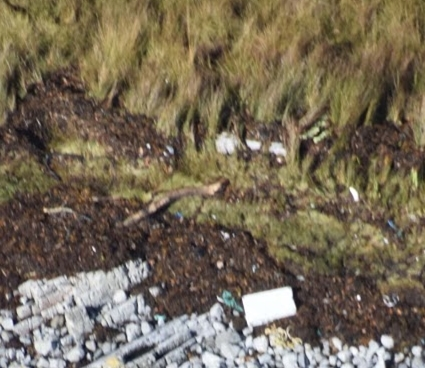cuboid: (232, 278, 308, 333)
scattered_barrel: (208, 107, 339, 167), (203, 224, 244, 314)
straight_bar: (109, 178, 232, 230)
white_in_green: (331, 172, 376, 216)
